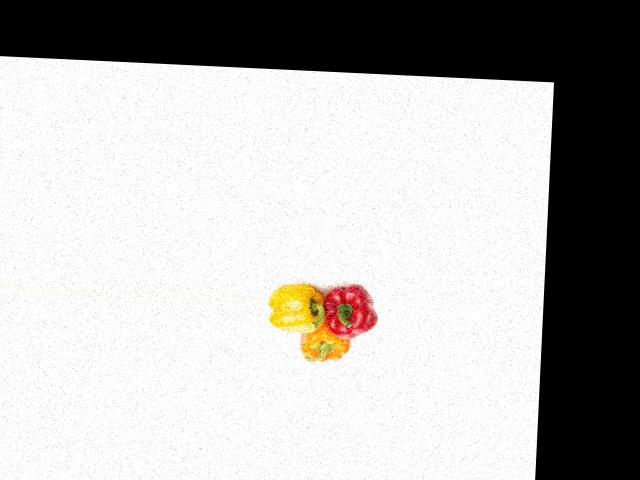bell_pepper: (267, 278, 323, 335)
